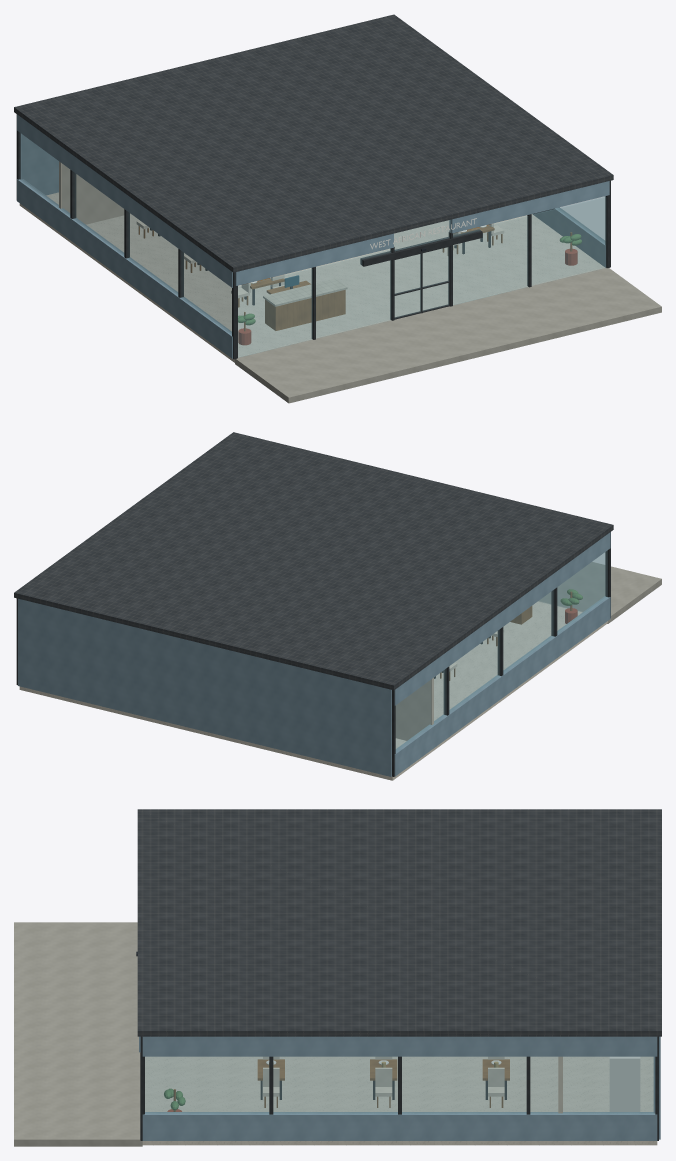
File: 03_West_African_Restaurant_LOD1.glb
3 renders of one model, top to bottom at view 1: azimuth 30°, elevation 25°; view 2: azimuth 150°, elevation 25°; view 3: azimuth 270°, elevation 25°, orthographic. The views are drawn at different scales.
Visible parts, largest first — view 1: Roof, Floor, Approach, Front glazing, Front glazing.001, Side glazing, Side base wall, Side upper wall, Front band.001, Front band, Internal partition, Service counter (+8 smaller); view 2: Roof, Rear wall, Side glazing, Floor, Side base wall, Side upper wall, Approach, Internal partition, Front glazing; view 3: Roof, Side glazing.001, Approach, Floor, Side base wall.001, Side upper wall.001, Fridge.
Part boxes in pixels (bbox=[...]): Roof: bbox=[14, 14, 613, 272]; Floor: bbox=[19, 192, 605, 362]; Approach: bbox=[235, 268, 661, 403]; Front glazing: bbox=[238, 249, 391, 357]; Front glazing.001: bbox=[453, 197, 606, 304]; Side glazing: bbox=[20, 133, 231, 333]; Side base wall: bbox=[17, 179, 232, 358]; Side upper wall: bbox=[17, 114, 232, 287]; Front band.001: bbox=[449, 181, 609, 233]; Front band: bbox=[235, 233, 393, 285]; Internal partition: bbox=[59, 161, 130, 224]; Service counter: bbox=[265, 290, 345, 330]; Roof: bbox=[14, 432, 613, 690]; Rear wall: bbox=[18, 598, 391, 776]; Side glazing: bbox=[396, 551, 607, 751]; Floor: bbox=[19, 601, 607, 780]; Side base wall: bbox=[394, 596, 610, 776]; Side upper wall: bbox=[394, 532, 610, 705]; Approach: bbox=[539, 562, 661, 623]; Internal partition: bbox=[395, 677, 433, 740]; Front glazing: bbox=[539, 553, 604, 611]; Roof: bbox=[137, 809, 661, 1036]; Side glazing.001: bbox=[145, 1057, 654, 1113]; Approach: bbox=[14, 922, 142, 1146]; Floor: bbox=[142, 1056, 657, 1145]; Side base wall.001: bbox=[142, 1112, 657, 1140]; Side upper wall.001: bbox=[142, 1036, 657, 1056]; Fridge: bbox=[609, 1056, 640, 1111].
Size of the model in its own units: 16.3 by 4.04 by 20.15.
Materials: 18 (12 with a texture image).
